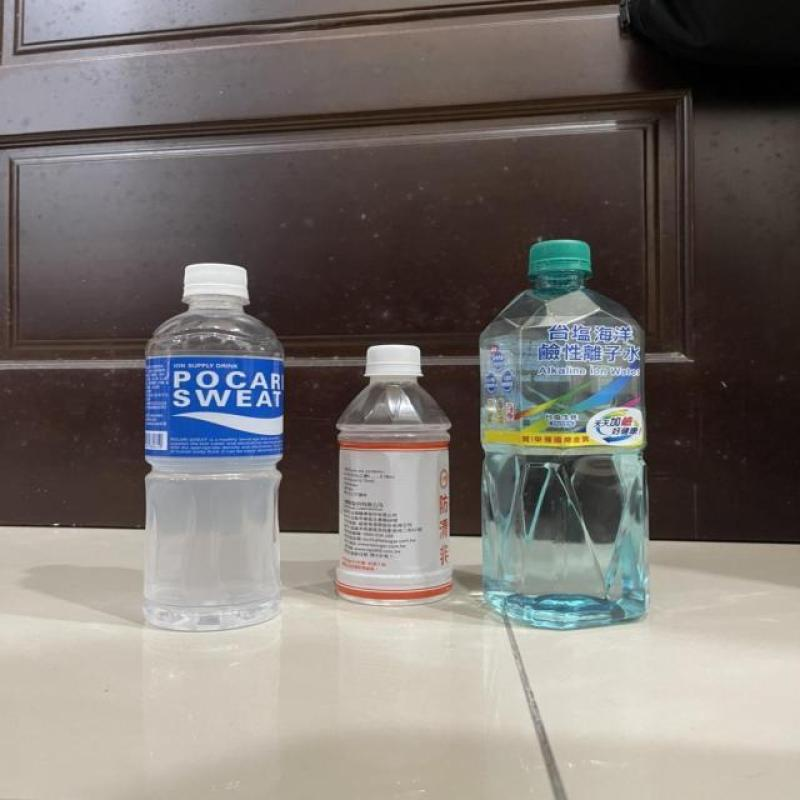botella: (476, 239, 652, 629), (142, 262, 284, 630), (336, 343, 453, 607)
